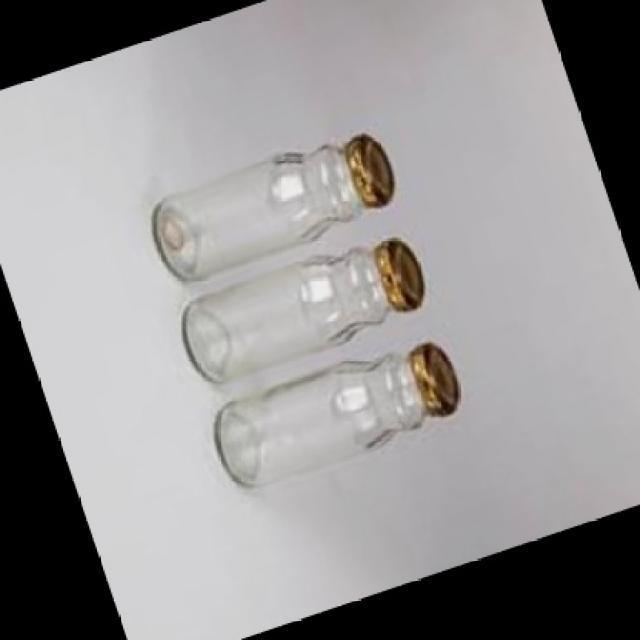Glass: (149, 132, 397, 282), (214, 340, 462, 490), (182, 236, 424, 384)
